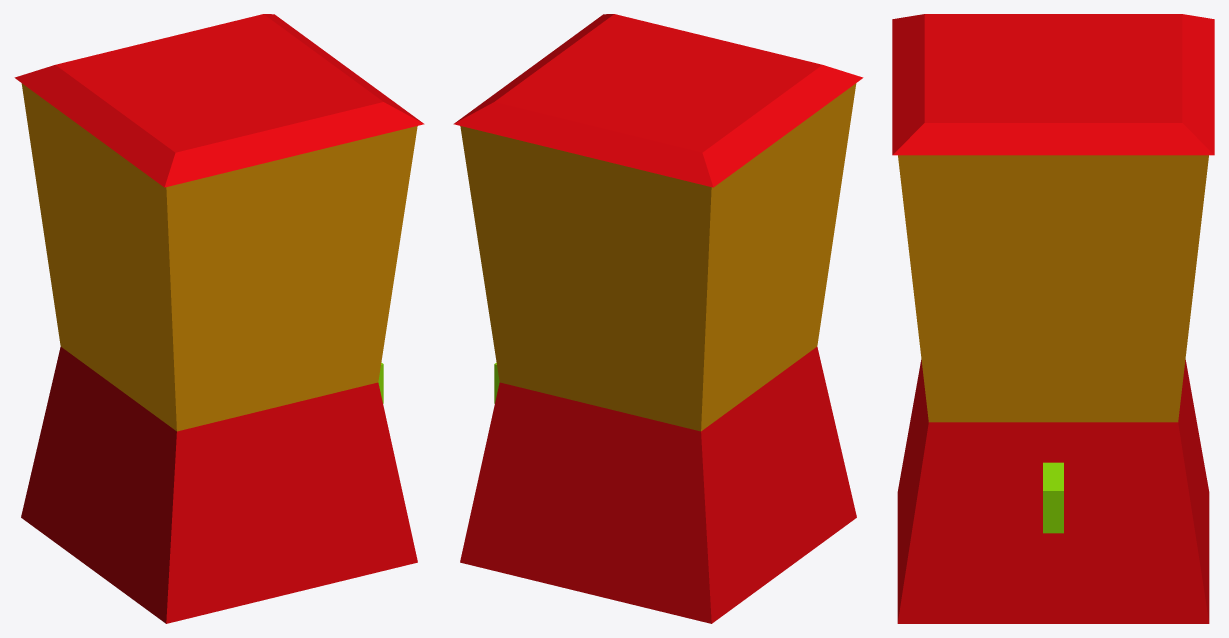
Rendered from Dispenser.fbx.
3 renders of one model, left to right at view 1: azimuth 30°, elevation 25°; view 2: azimuth 150°, elevation 25°; view 3: azimuth 270°, elevation 25°, orthographic. The views are drawn at different scales.
Parts seen in each view (by area): view 1: Dispenser; view 2: Dispenser; view 3: Dispenser.
Part boxes in pixels (x1=…): Dispenser: x1=14, y1=14, x2=424, y2=623; Dispenser: x1=453, y1=14, x2=863, y2=623; Dispenser: x1=892, y1=14, x2=1214, y2=623.
Bounding box in the file's own units: 620 × 690 × 1040.
